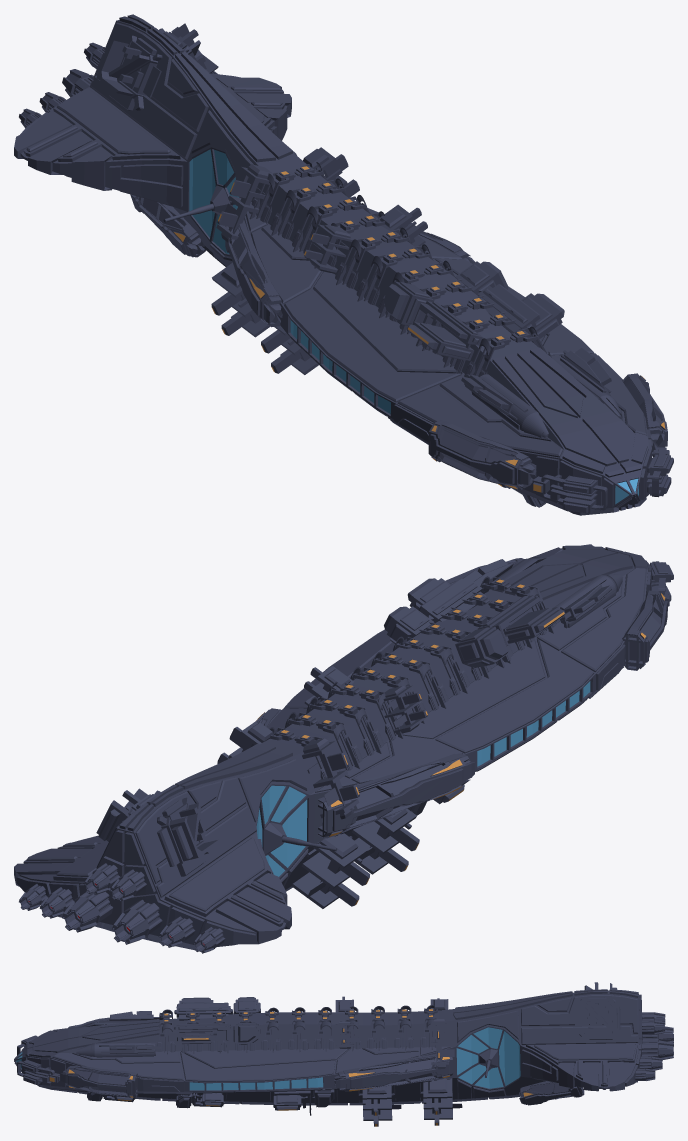
Rendered from orthonfull.obj.
3 views of the same model, one above another, from view 1: azimuth 30°, elevation 25°; view 2: azimuth 150°, elevation 25°; view 3: azimuth 270°, elevation 25° (orthographic). The views are drawn at different scales.
Visible parts, largest first — view 1: orthonpart1; view 2: orthonpart1; view 3: orthonpart1.
Part boxes in pixels (box(x1,y1,x2,y2)): orthonpart1: box(14, 14, 673, 515); orthonpart1: box(14, 544, 673, 953); orthonpart1: box(14, 982, 673, 1126).
Bounding box in the file's own units: 14.16 × 10.2 × 49.84.
